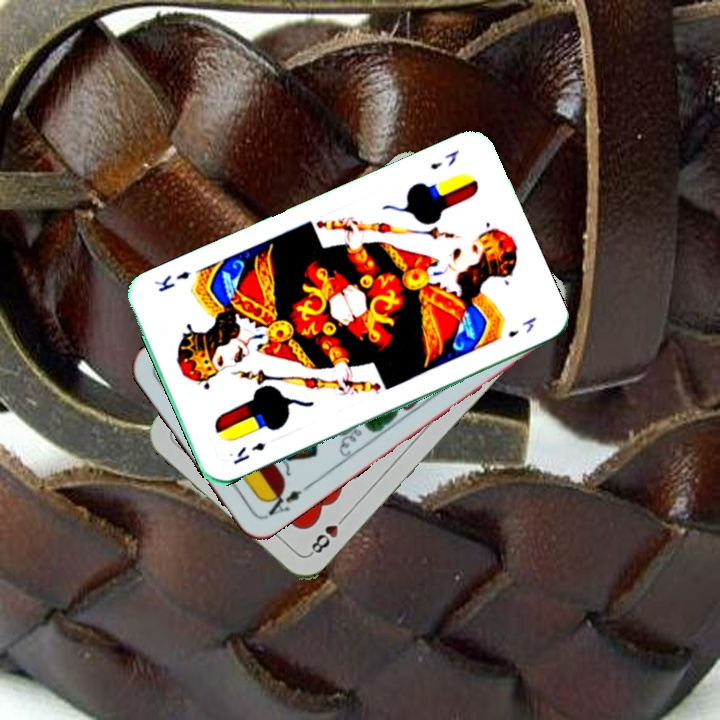EA: (260, 480, 312, 518)
EK: (229, 438, 268, 467), (426, 146, 462, 172)
H8: (305, 510, 350, 558)
